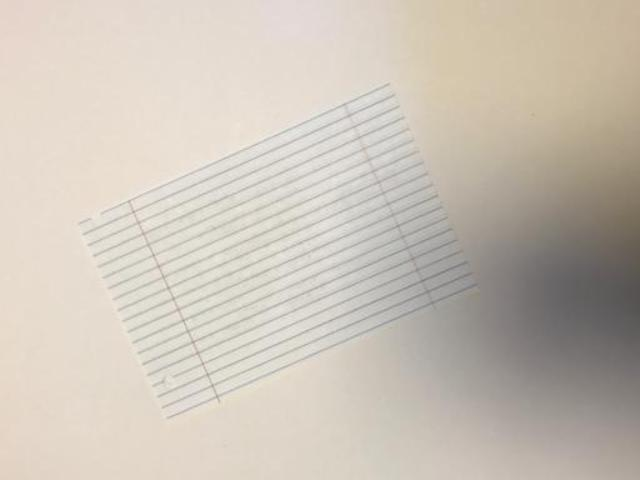cardboard paper: (79, 82, 474, 415)
